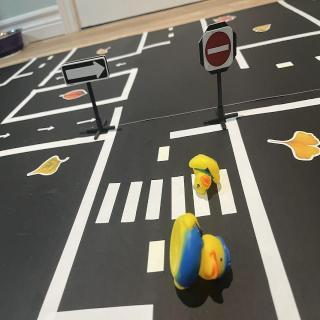duck_regular: (189, 153, 222, 195)
duck_specialty: (169, 212, 234, 292)
road_crosswalk: (92, 167, 240, 227)
road_oneway: (76, 116, 99, 128), (37, 125, 57, 135), (1, 131, 13, 142), (55, 73, 66, 83), (116, 62, 128, 68)
sign_noentry: (204, 25, 234, 71)
sign_oneway_right: (63, 57, 111, 86)
